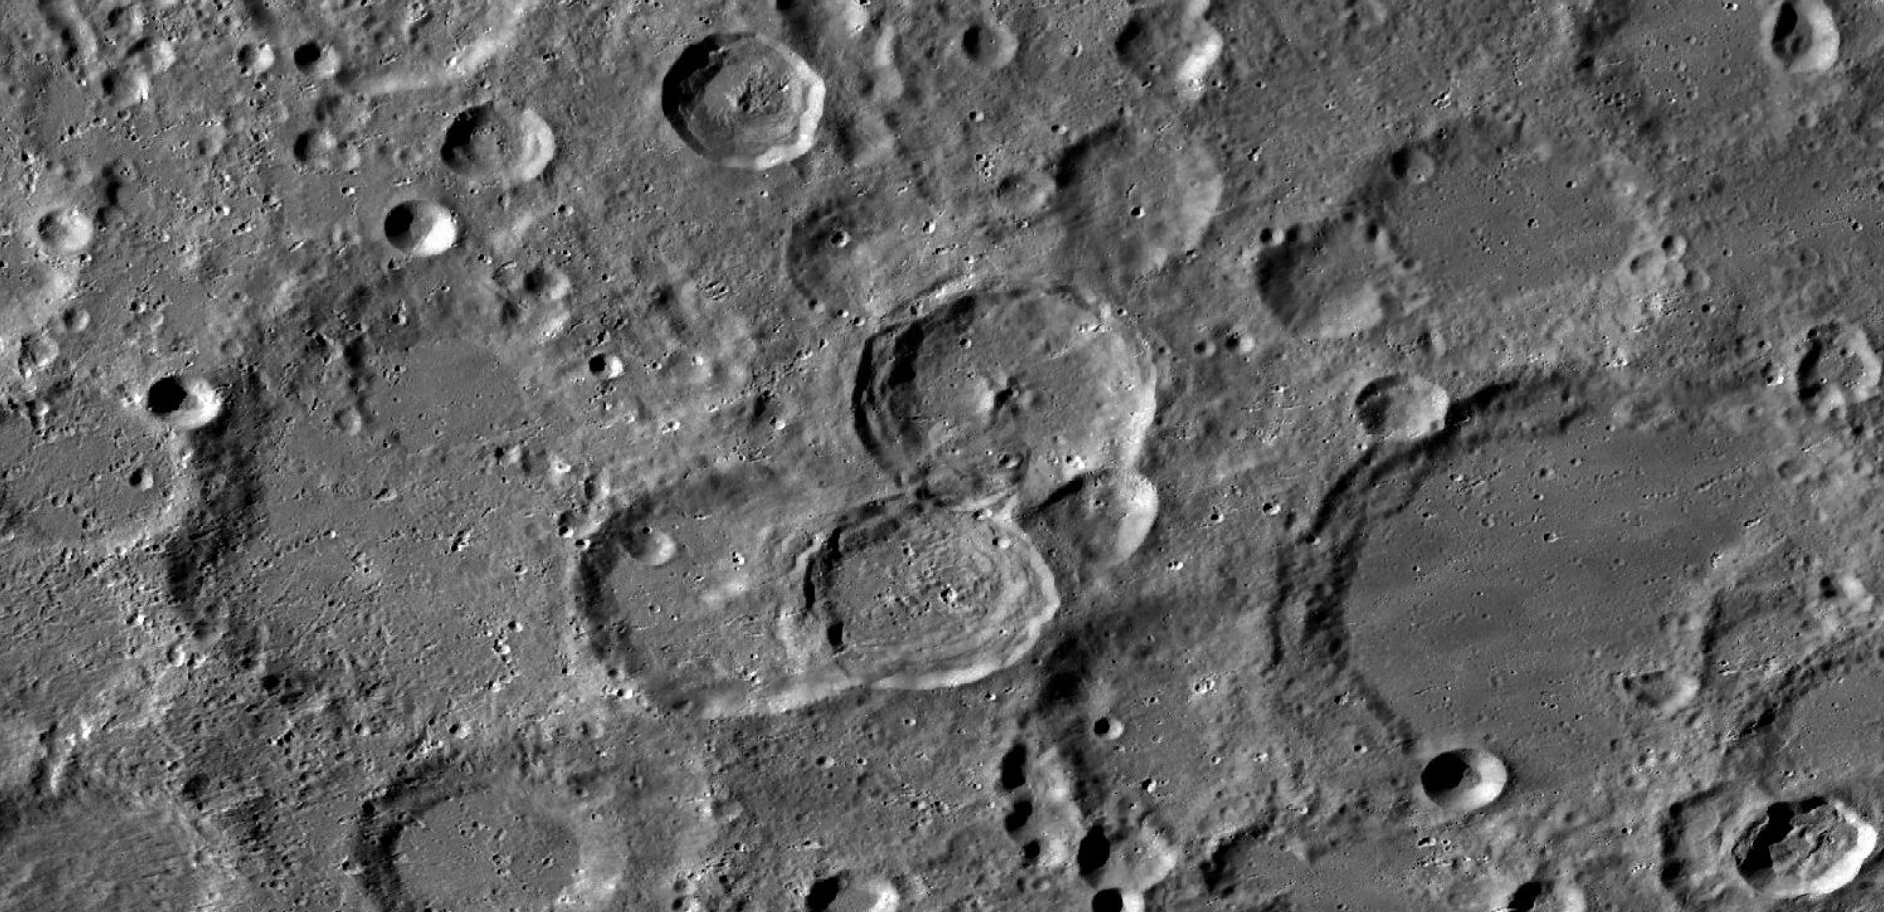crater: (166, 246, 836, 759), (1328, 96, 1703, 403), (823, 263, 1179, 521), (1035, 105, 1238, 287), (646, 22, 849, 192), (1712, 763, 1883, 904), (428, 89, 595, 198), (1086, 4, 1250, 107), (1394, 713, 1532, 833), (1784, 298, 1882, 437), (1336, 366, 1466, 458), (371, 187, 476, 266), (944, 4, 1041, 83), (20, 193, 112, 270), (276, 23, 359, 88)
